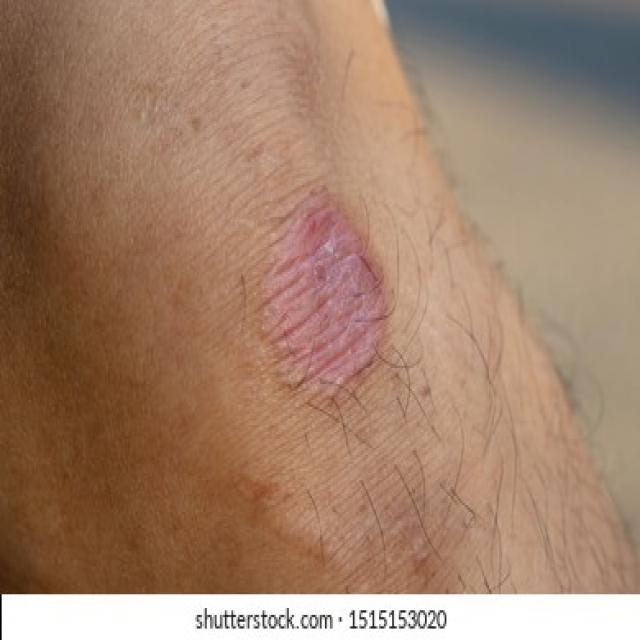tinea: (244, 168, 405, 422)
